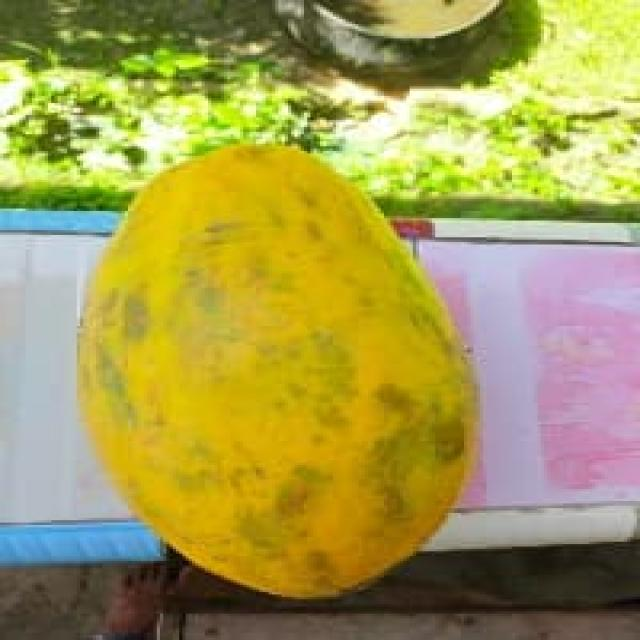Pepaya: (77, 142, 486, 600)
